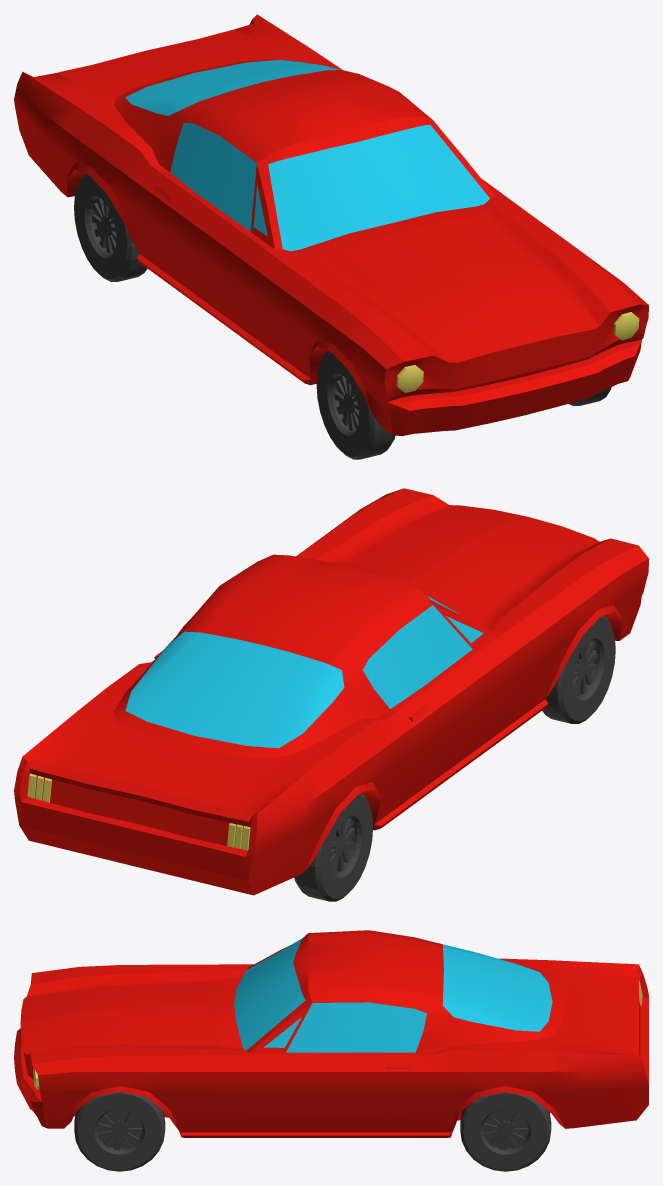
File: Mustang.glb
3 views of the same model, one above another, from view 1: azimuth 30°, elevation 25°; view 2: azimuth 150°, elevation 25°; view 3: azimuth 270°, elevation 25° (orthographic). The views are drawn at different scales.
Visible parts, largest first — view 1: Body, Hood, WindShield, DoorLeft, TrunkLib, DoorLeftWindow, Frontwheels, RearWindow, BackWheels, FrontLights; view 2: Body, Hood, RearWindow, DoorLeft, TrunkLib, DoorLeftWindow, BackWheels, Frontwheels, Backlights; view 3: Body, Hood, DoorLeft, RearWindow, DoorLeftWindow, Frontwheels, BackWheels, TrunkLib, WindShield.
Boxes of the visible parts, x1,y1,x2,y2 form: Body: (14,14,648,436); Hood: (304,212,610,362); WindShield: (268,124,489,251); DoorLeft: (149,164,501,339); TrunkLib: (56,29,273,97); DoorLeftWindow: (170,123,267,236); Frontwheels: (316,351,611,459); RearWindow: (125,60,340,115); BackWheels: (74,173,147,281); FrontLights: (396,312,639,392); Body: (14,488,648,895); Hood: (316,495,609,616); RearWindow: (125,631,344,748); DoorLeft: (154,605,520,794); TrunkLib: (56,720,273,808); DoorLeftWindow: (362,605,483,708); BackWheels: (294,793,372,901); Frontwheels: (542,615,615,723); Backlights: (27,773,250,850); Body: (14,930,648,1137); Hood: (20,971,218,1054); DoorLeft: (243,964,415,1126); RearWindow: (442,944,552,1031); DoorLeftWindow: (263,1002,426,1052); Frontwheels: (74,1091,165,1171); BackWheels: (460,1092,551,1171); TrunkLib: (551,973,631,1048); WindShield: (234,938,305,1050).
Bounding box in the file's own units: 1.31 × 0.9882 × 3.35.
